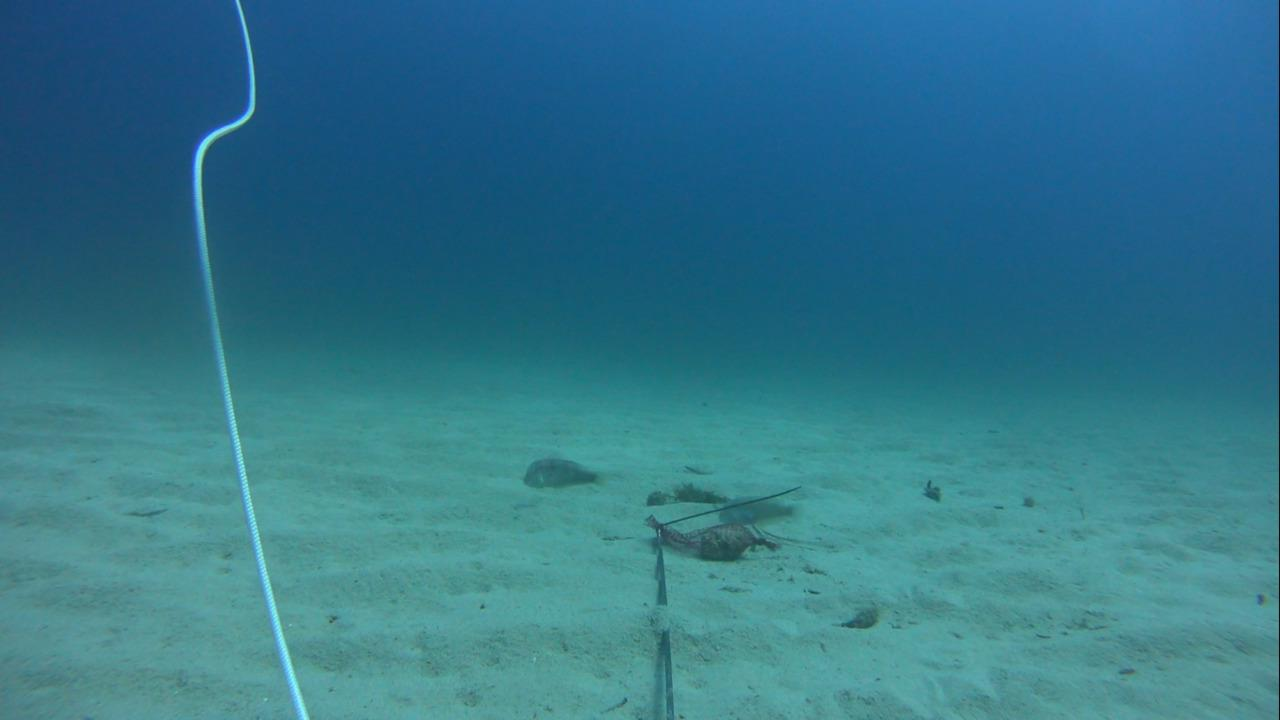raor: (706, 490, 804, 528), (515, 453, 608, 492)
